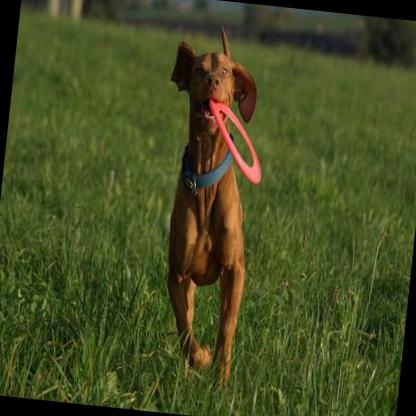vizsla: (136, 18, 282, 397)
